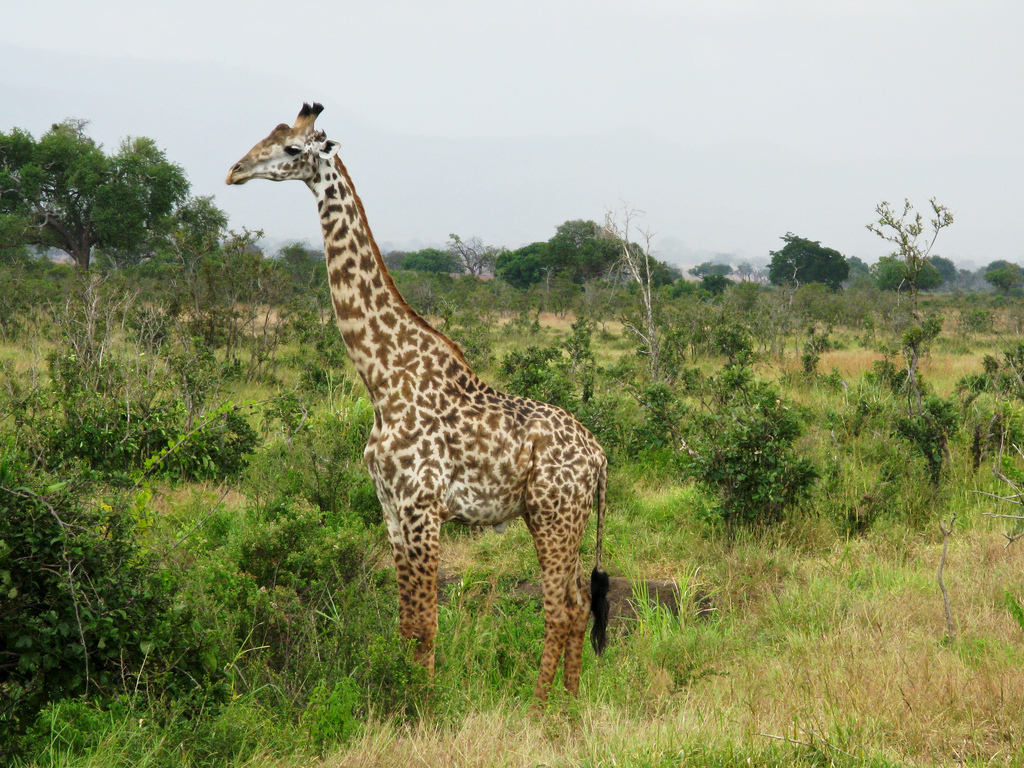giraffe: (225, 102, 641, 642)
